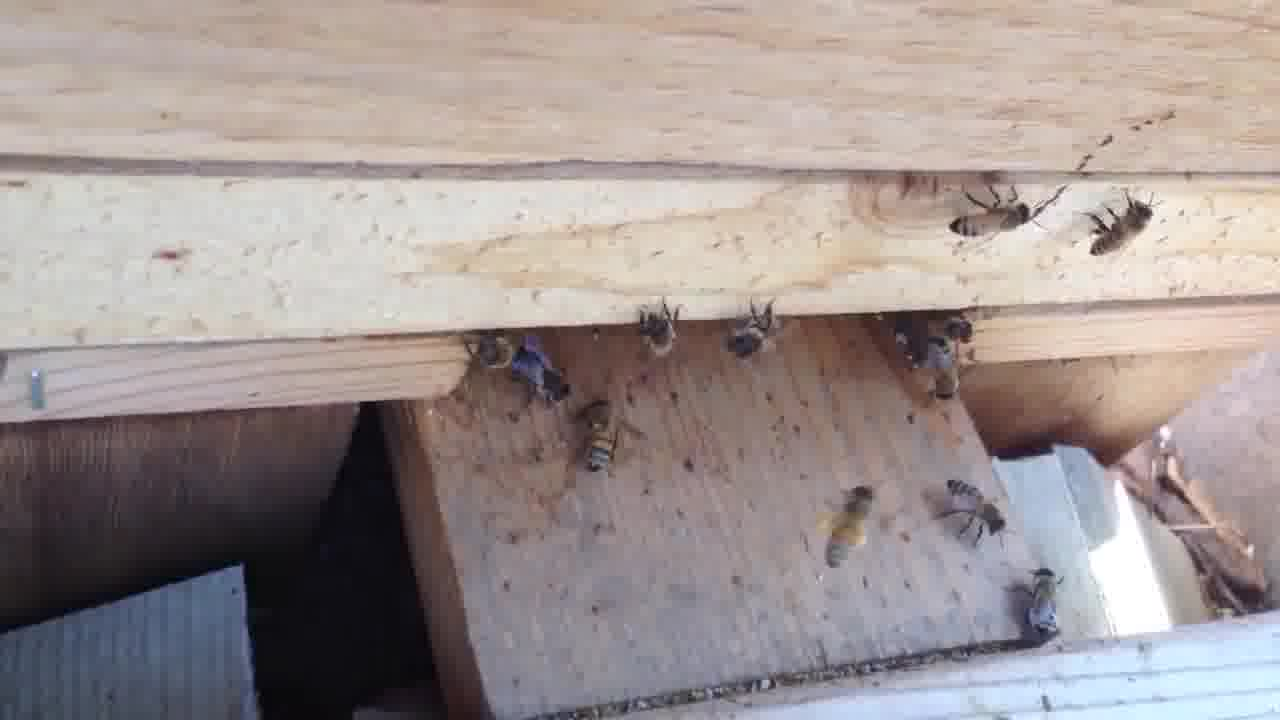pollen: (815, 479, 880, 566)
